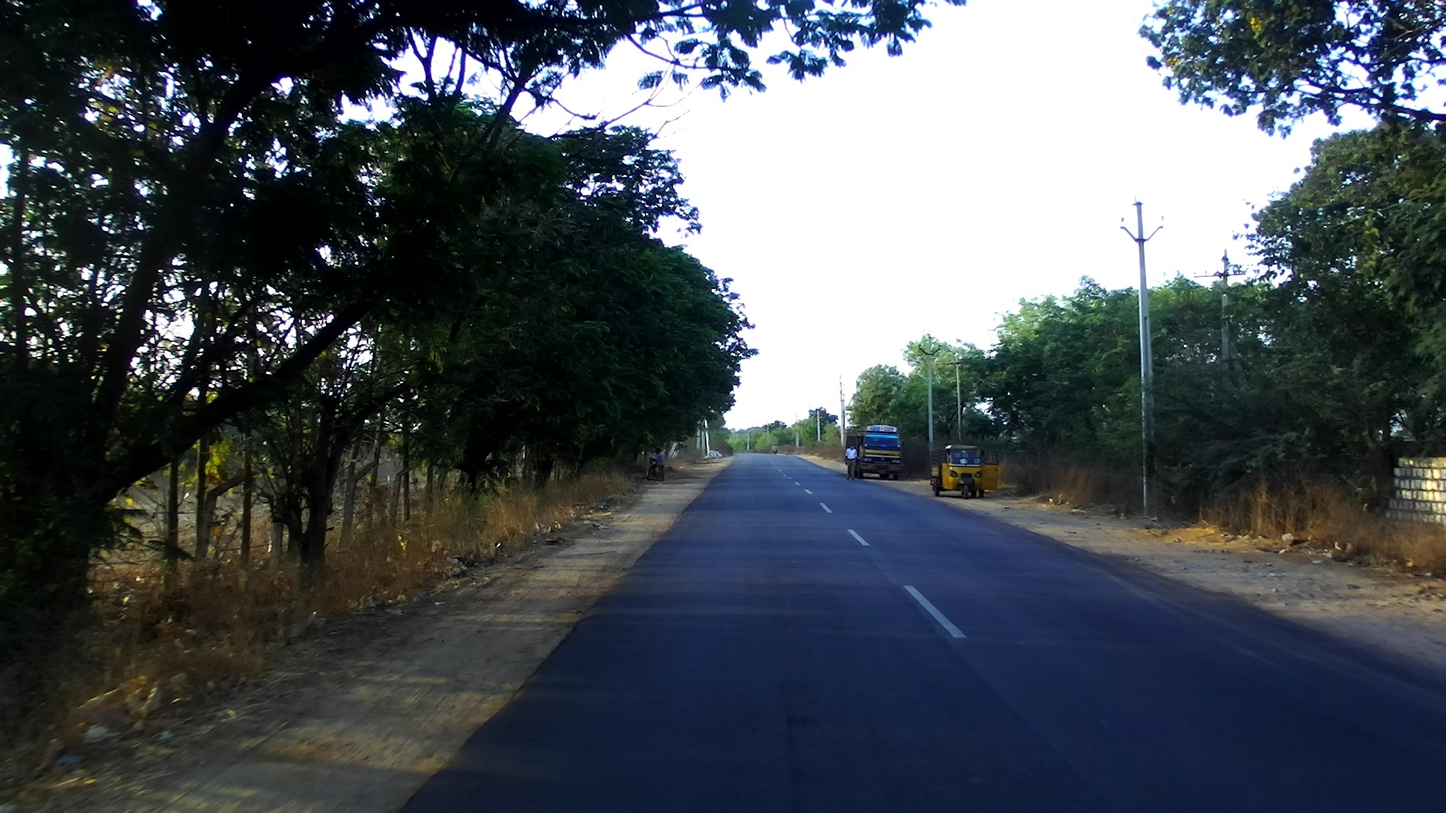autorickshaw: (929, 442, 1001, 498)
motorcycle: (772, 447, 780, 455)
person: (653, 446, 670, 483), (844, 443, 859, 480), (644, 449, 657, 481)
rider: (770, 443, 781, 452)
truck: (845, 424, 901, 480)
